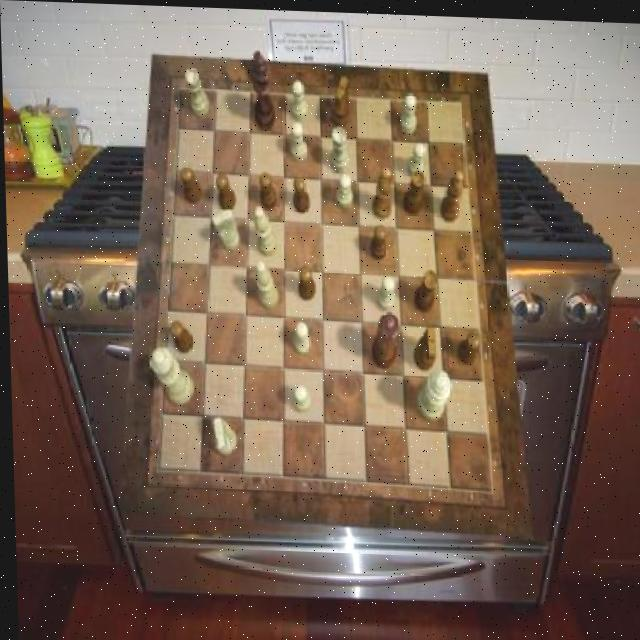bishop: (437, 167, 463, 221), (369, 165, 391, 219)
black-bishop: (250, 49, 275, 129)
black-king: (329, 74, 349, 127), (410, 324, 434, 368)
black-knight: (454, 330, 479, 363), (167, 320, 191, 353), (178, 167, 200, 203), (215, 172, 235, 209), (258, 171, 276, 209), (290, 174, 308, 211), (367, 222, 385, 258), (295, 264, 313, 299)
black-pawn: (367, 310, 397, 367)
black-queen: (401, 167, 426, 213), (411, 267, 436, 310)
black-rook: (253, 204, 276, 254), (252, 260, 276, 306)
white-bishop: (413, 366, 450, 419)
white-king: (209, 208, 238, 250), (210, 415, 233, 453)
white-knight: (405, 140, 425, 176), (289, 121, 307, 161), (399, 92, 417, 132), (290, 78, 307, 120), (375, 274, 394, 309), (333, 171, 351, 206), (291, 319, 309, 353), (291, 382, 309, 409)
white-pawn: (146, 346, 191, 405)
white-queen: (184, 67, 209, 115), (328, 125, 348, 171)
